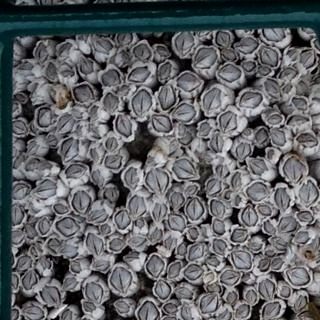Barnacle: (296, 181, 319, 222), (155, 42, 176, 78), (82, 281, 103, 315), (192, 48, 219, 71), (99, 67, 124, 90), (147, 167, 168, 194), (111, 265, 129, 296), (246, 181, 270, 204), (281, 157, 303, 182), (176, 72, 201, 94), (284, 266, 311, 286), (60, 136, 79, 164), (132, 88, 151, 116), (56, 216, 80, 238), (171, 158, 196, 179), (156, 83, 176, 109), (264, 23, 286, 46), (33, 178, 57, 199), (215, 63, 240, 83), (39, 285, 61, 307), (71, 190, 92, 213), (236, 89, 260, 109), (230, 250, 252, 271), (150, 115, 173, 135), (218, 113, 237, 137), (85, 232, 103, 257), (176, 30, 194, 55), (147, 253, 165, 277), (186, 197, 204, 221), (130, 195, 147, 220), (115, 113, 132, 138), (199, 294, 218, 316), (174, 103, 196, 122), (234, 37, 259, 53), (262, 78, 281, 99), (258, 278, 276, 300), (204, 88, 221, 111), (138, 300, 158, 319), (103, 153, 123, 172), (260, 48, 279, 68), (7, 118, 28, 136), (300, 48, 318, 69), (133, 41, 151, 62), (242, 202, 257, 227), (274, 187, 291, 209), (64, 164, 87, 180), (296, 136, 319, 152), (10, 183, 29, 202), (166, 212, 184, 232), (129, 65, 149, 83), (57, 112, 74, 133), (37, 104, 53, 126), (9, 204, 24, 227), (72, 84, 91, 102), (21, 270, 38, 290), (279, 213, 296, 233), (57, 42, 74, 62), (114, 208, 130, 229), (151, 200, 166, 222), (208, 198, 226, 216), (205, 179, 223, 197), (154, 279, 171, 298), (102, 91, 119, 110), (219, 270, 239, 286), (62, 274, 79, 292), (185, 263, 203, 280), (166, 260, 183, 278), (14, 254, 31, 272), (211, 237, 228, 255), (262, 303, 281, 319), (92, 258, 111, 274), (103, 185, 119, 204), (23, 304, 43, 319), (34, 41, 47, 64), (289, 114, 310, 128), (46, 235, 62, 253), (89, 207, 107, 223), (254, 125, 269, 144), (124, 167, 137, 188), (92, 167, 105, 188), (188, 243, 204, 260), (230, 229, 248, 244), (279, 68, 297, 83), (272, 130, 288, 146), (234, 304, 251, 319), (113, 299, 130, 314), (293, 231, 310, 246), (249, 160, 264, 177), (87, 124, 102, 141), (109, 236, 127, 250), (175, 287, 194, 300), (210, 135, 223, 154), (44, 62, 57, 81), (214, 162, 229, 178), (237, 142, 252, 158), (44, 132, 59, 148), (267, 111, 283, 126), (87, 104, 102, 120), (216, 30, 231, 46), (162, 301, 179, 315), (62, 244, 79, 258), (27, 138, 41, 155), (79, 58, 93, 75), (94, 39, 111, 53), (171, 191, 184, 209), (104, 135, 117, 153), (181, 304, 196, 319), (162, 235, 177, 250), (24, 157, 39, 172), (198, 120, 212, 136), (51, 201, 68, 214), (231, 171, 244, 188), (128, 234, 146, 246), (38, 215, 50, 233), (206, 255, 221, 269), (22, 225, 37, 239), (226, 289, 239, 305), (12, 153, 25, 169), (47, 85, 60, 101), (69, 260, 83, 274), (256, 258, 270, 272), (273, 236, 287, 250), (9, 230, 23, 244), (149, 228, 163, 242), (211, 220, 225, 234), (291, 97, 305, 111), (87, 146, 99, 162), (294, 294, 307, 308), (39, 257, 52, 271), (166, 139, 179, 153), (119, 48, 132, 62), (124, 251, 139, 263), (259, 203, 274, 215), (184, 182, 199, 194), (245, 290, 257, 304), (206, 283, 221, 294), (263, 219, 274, 234), (271, 257, 284, 269), (99, 222, 111, 235), (242, 59, 255, 71), (28, 245, 39, 259), (297, 311, 316, 319), (187, 228, 199, 240), (182, 131, 194, 143), (310, 97, 319, 113), (222, 48, 234, 60), (59, 308, 72, 319), (176, 243, 187, 256), (75, 122, 85, 136), (203, 271, 214, 283), (219, 309, 232, 319), (239, 124, 252, 134), (288, 46, 298, 59), (250, 239, 261, 250), (121, 83, 132, 94), (40, 162, 52, 172), (27, 212, 37, 223), (145, 154, 156, 164), (312, 76, 319, 91), (266, 148, 275, 159), (259, 66, 270, 75)
